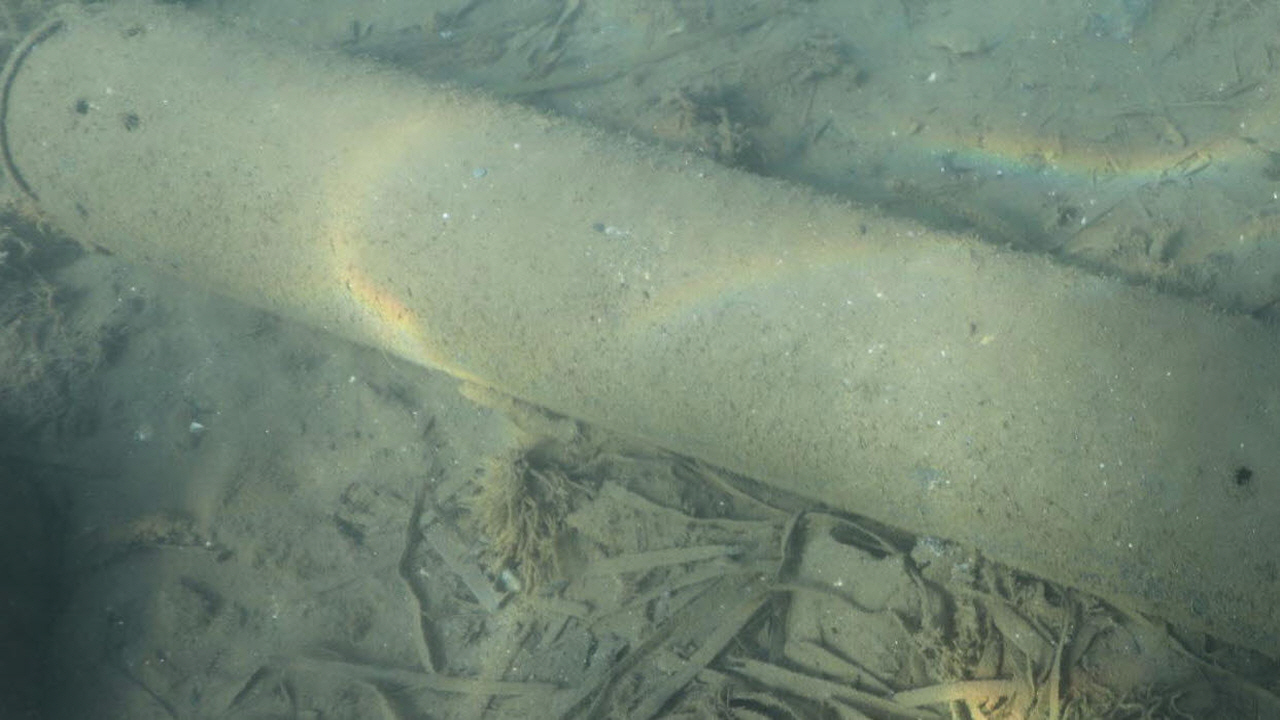eel fish trap: (0, 2, 1280, 655)
